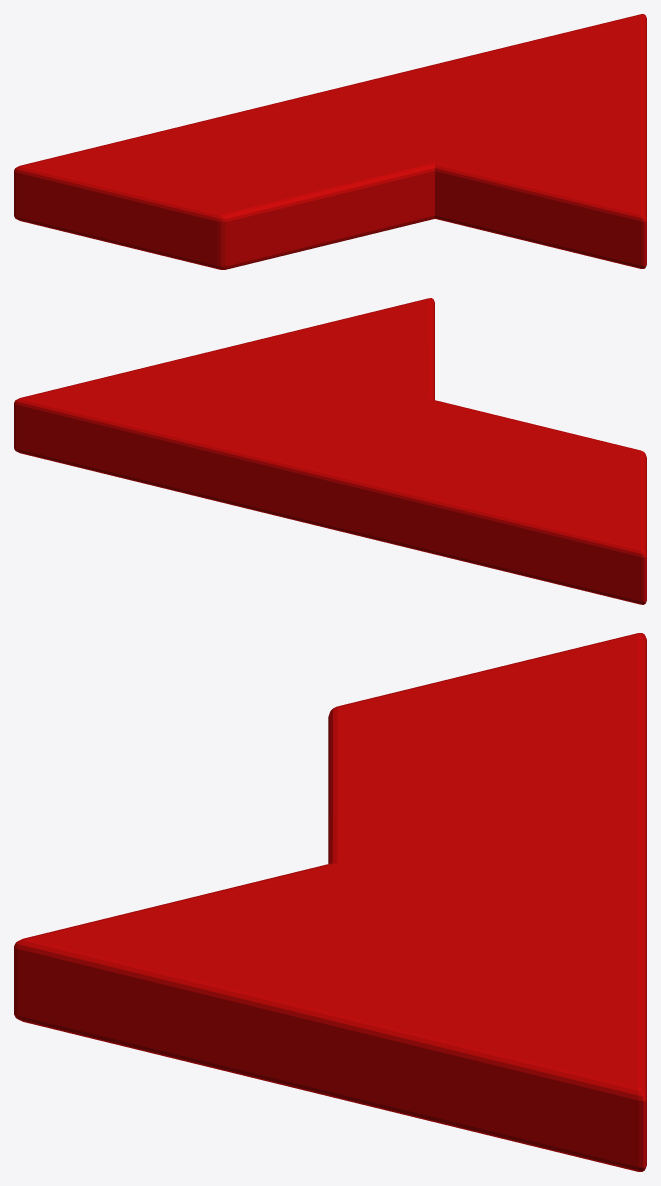
Rendered from PieceP1.glb.
3 renders of one model, top to bottom at view 1: azimuth 30°, elevation 25°; view 2: azimuth 150°, elevation 25°; view 3: azimuth 270°, elevation 25°, orthographic. The views are drawn at different scales.
Visible parts, largest first — view 1: CubeP1-1; view 2: CubeP1-1; view 3: CubeP1-1.
Part boxes in pixels (x1,y1,x2,y2): CubeP1-1: (14,14,646,269); CubeP1-1: (14,298,646,604); CubeP1-1: (14,633,646,1171).
Size of the model in its own units: 2.98 by 0.25 by 1.72.
